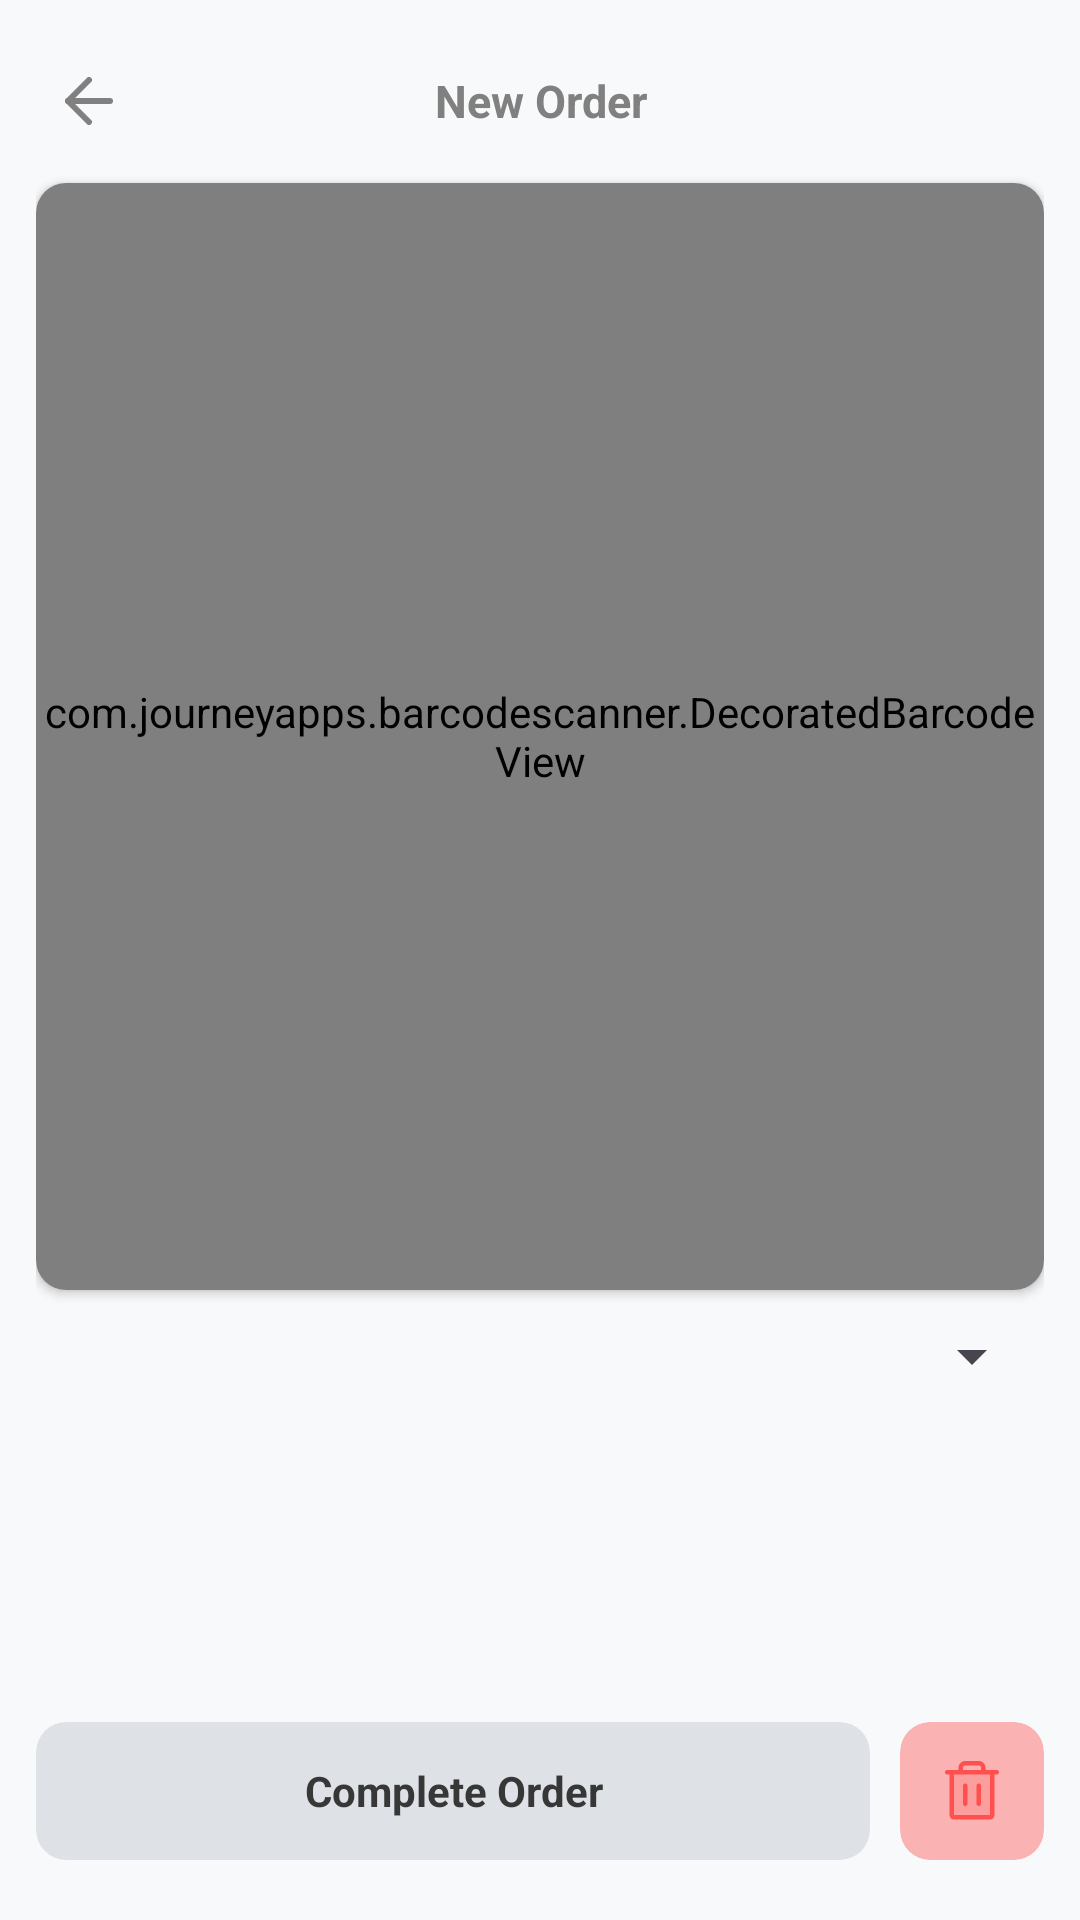

Screen size 1080px x 1920px. Icon name, then its center in pixels as [x,y]:
Left Arrow: [89,101]
